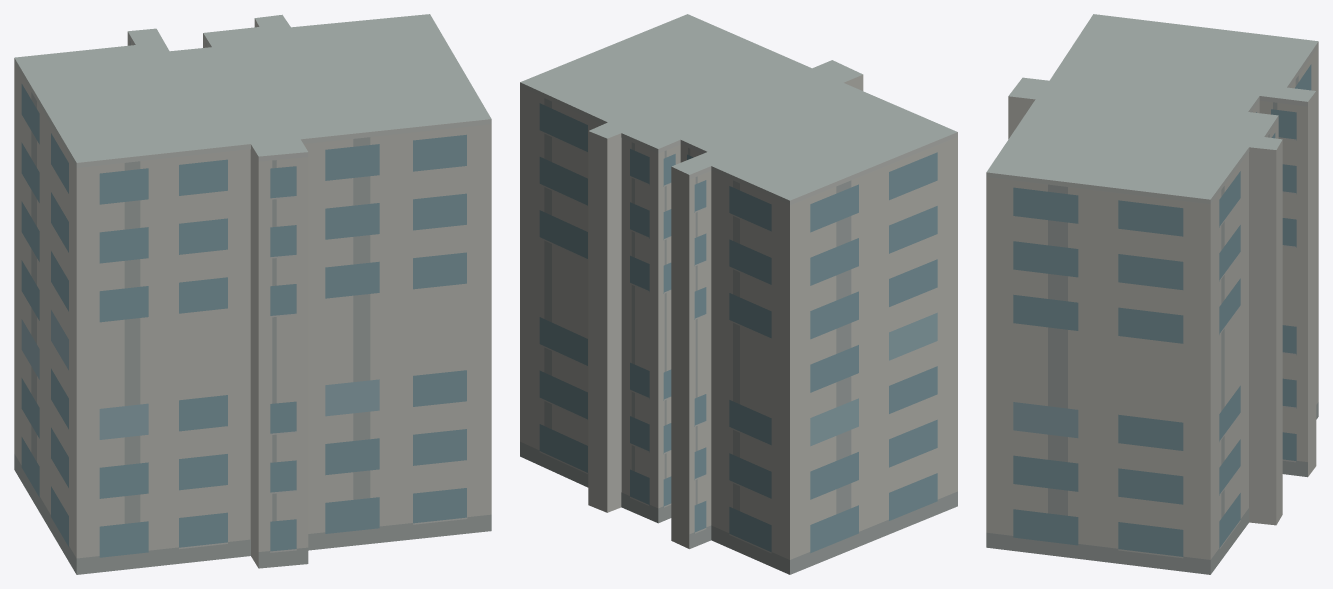
File: survey-upis-32872006.glb
The picture shows the model from 3 angles, left to right: view 1: azimuth 30°, elevation 25°; view 2: azimuth 150°, elevation 25°; view 3: azimuth 270°, elevation 25°; orthographic projection. The views are drawn at different scales.
Visible parts, largest first — view 1: survey-upis-32872006.tmp; view 2: survey-upis-32872006.tmp; view 3: survey-upis-32872006.tmp.
Boxes of the visible parts, box(x1,y1,x2,y2) form: survey-upis-32872006.tmp: box(14, 14, 491, 574); survey-upis-32872006.tmp: box(520, 14, 957, 574); survey-upis-32872006.tmp: box(986, 14, 1318, 574).
Bounding box in the file's own units: 20.59 × 19.4 × 15.58.
